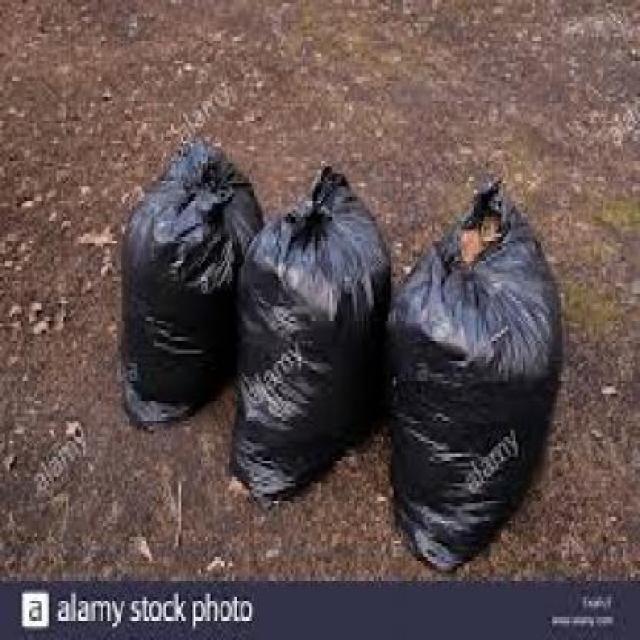garbage: (113, 137, 572, 574)
